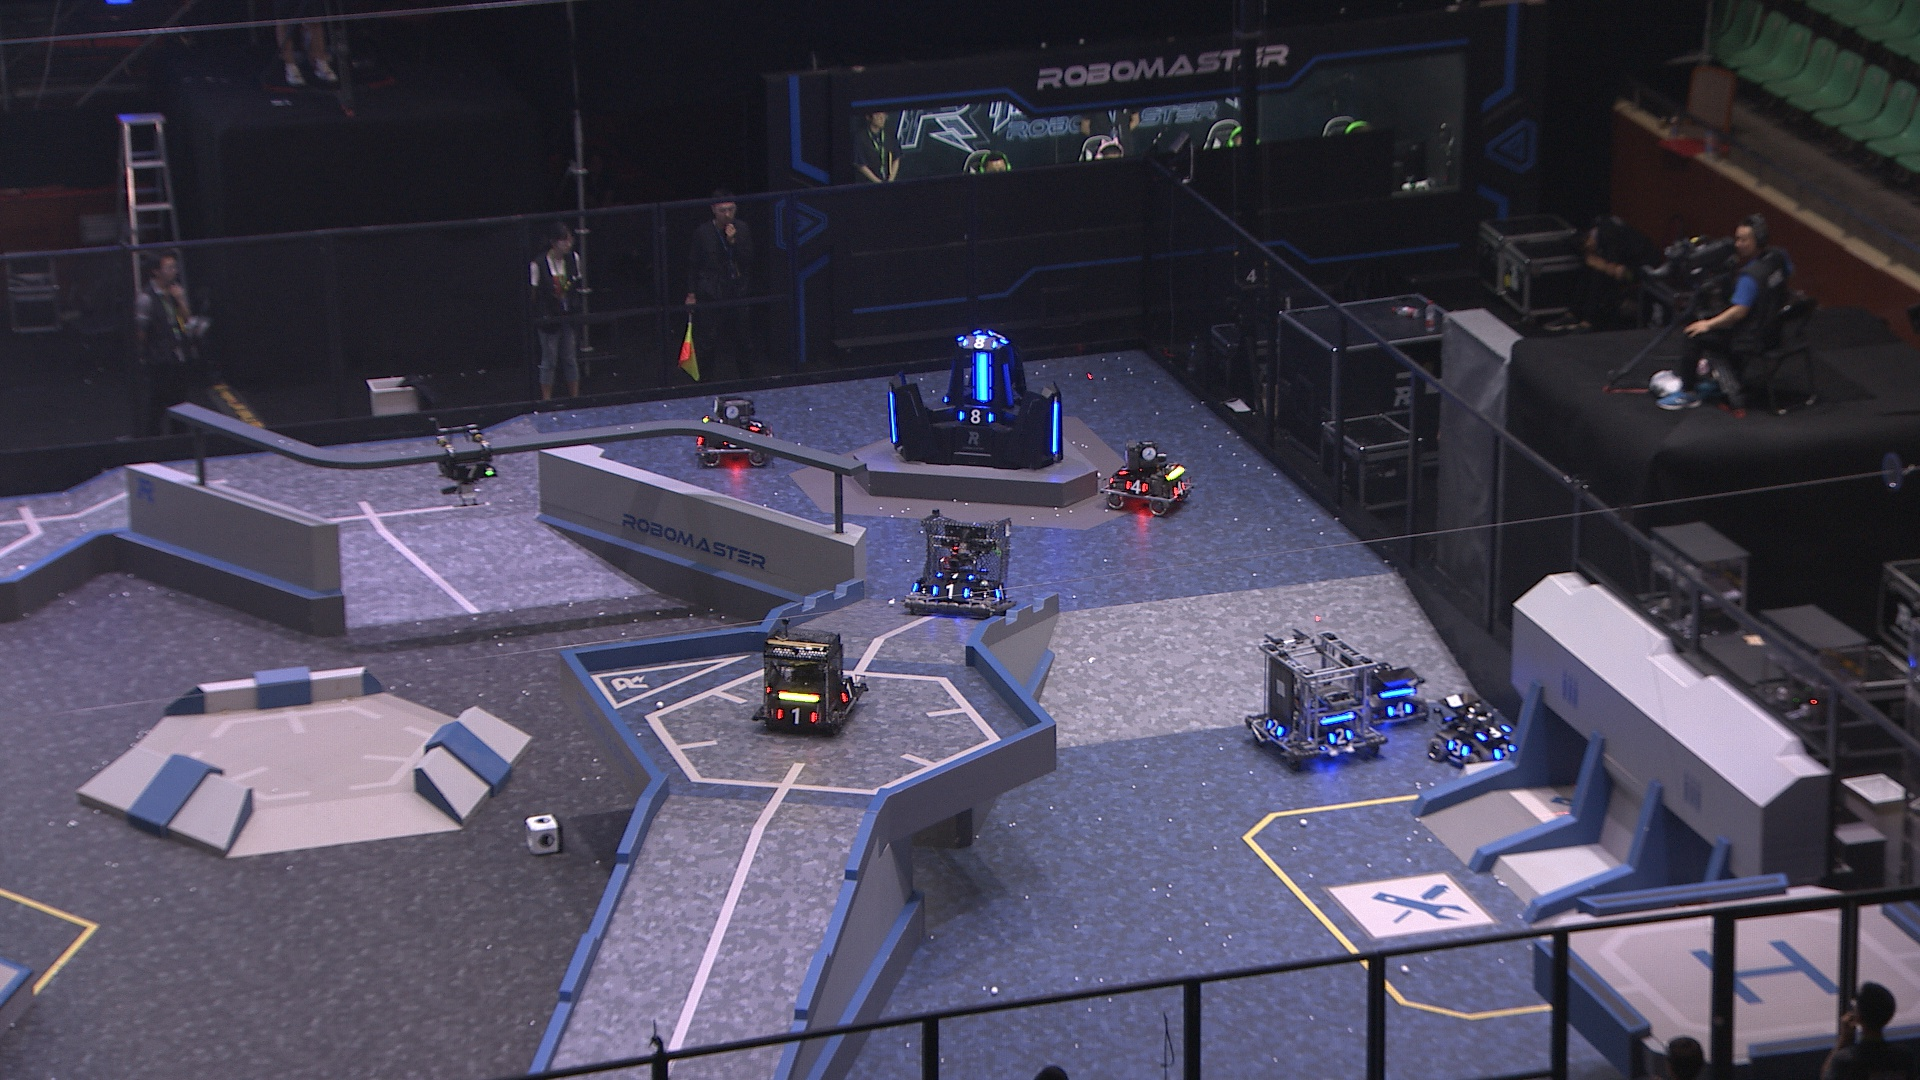armor: (971, 352, 994, 405), (448, 462, 493, 483), (1000, 363, 1019, 407), (774, 707, 818, 727), (930, 580, 972, 600), (1381, 698, 1411, 723), (1474, 719, 1510, 740), (1050, 400, 1063, 455), (934, 567, 977, 583), (955, 407, 994, 425), (887, 389, 899, 446), (960, 334, 998, 351), (836, 678, 858, 705), (1325, 727, 1353, 746), (1447, 736, 1472, 757), (1491, 740, 1516, 760), (1122, 477, 1150, 495), (1266, 717, 1286, 740), (1168, 477, 1187, 500), (745, 414, 765, 433), (988, 328, 1007, 344), (992, 580, 1007, 600), (1116, 462, 1133, 477)
base: (880, 327, 1065, 469)
car: (1238, 626, 1389, 764), (752, 618, 873, 733), (905, 508, 1019, 626), (1423, 688, 1522, 770), (1102, 439, 1195, 517), (1338, 654, 1428, 731), (694, 392, 779, 467)
watcher: (429, 414, 498, 508)
